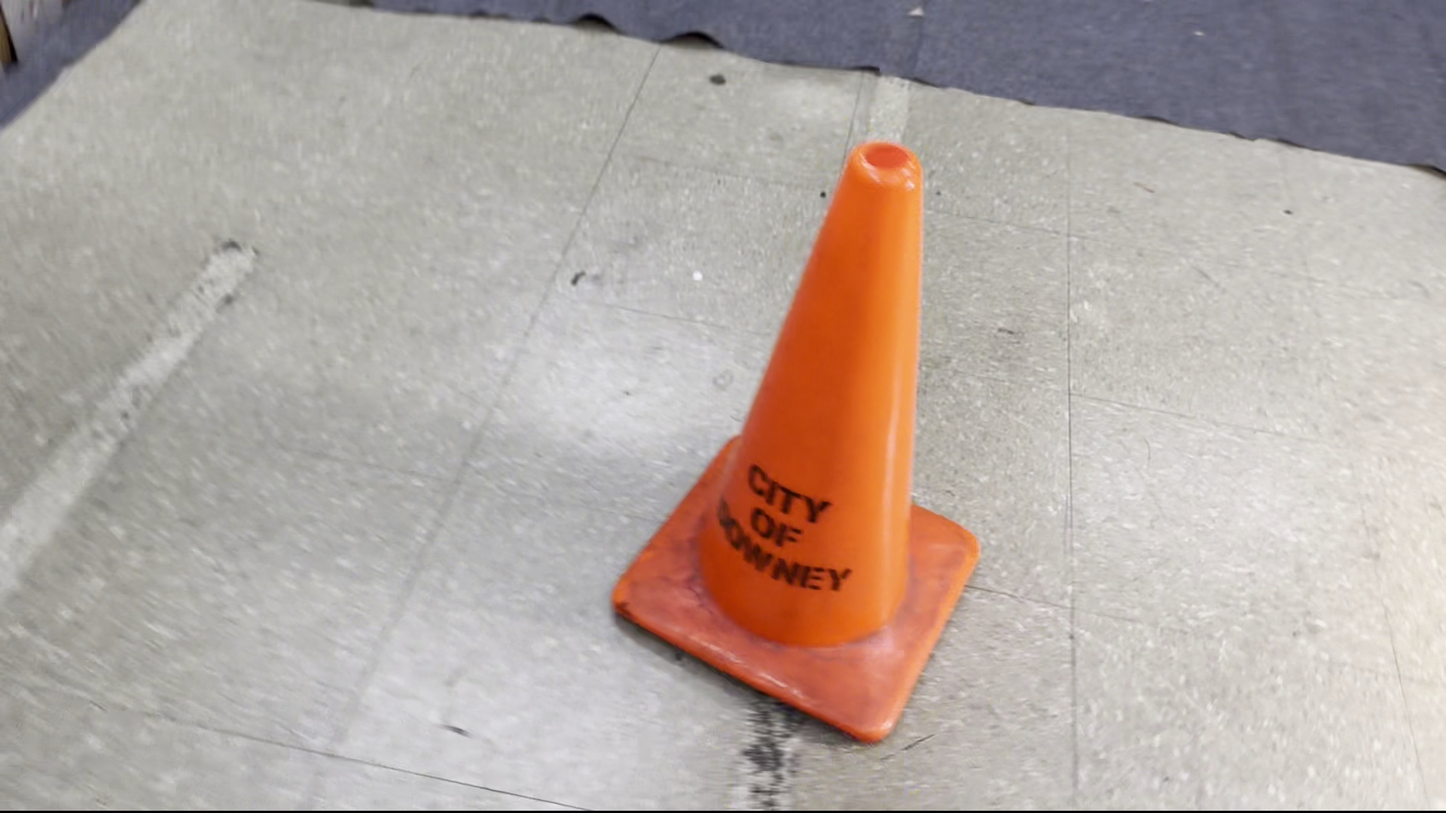traffic_cone: (611, 139, 981, 744)
